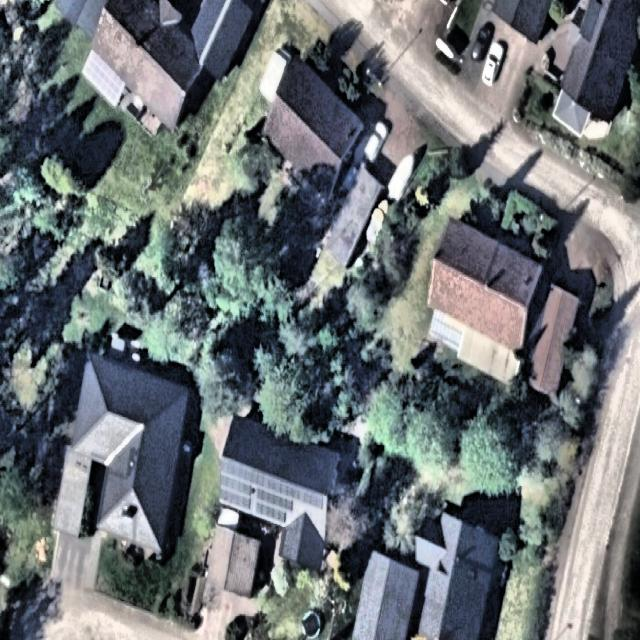roof_pv: (255, 468, 295, 526), (220, 453, 252, 519), (295, 481, 324, 513)
